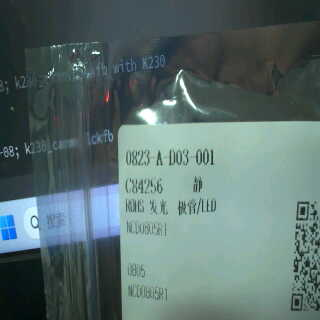LED: (145, 194, 219, 219)
